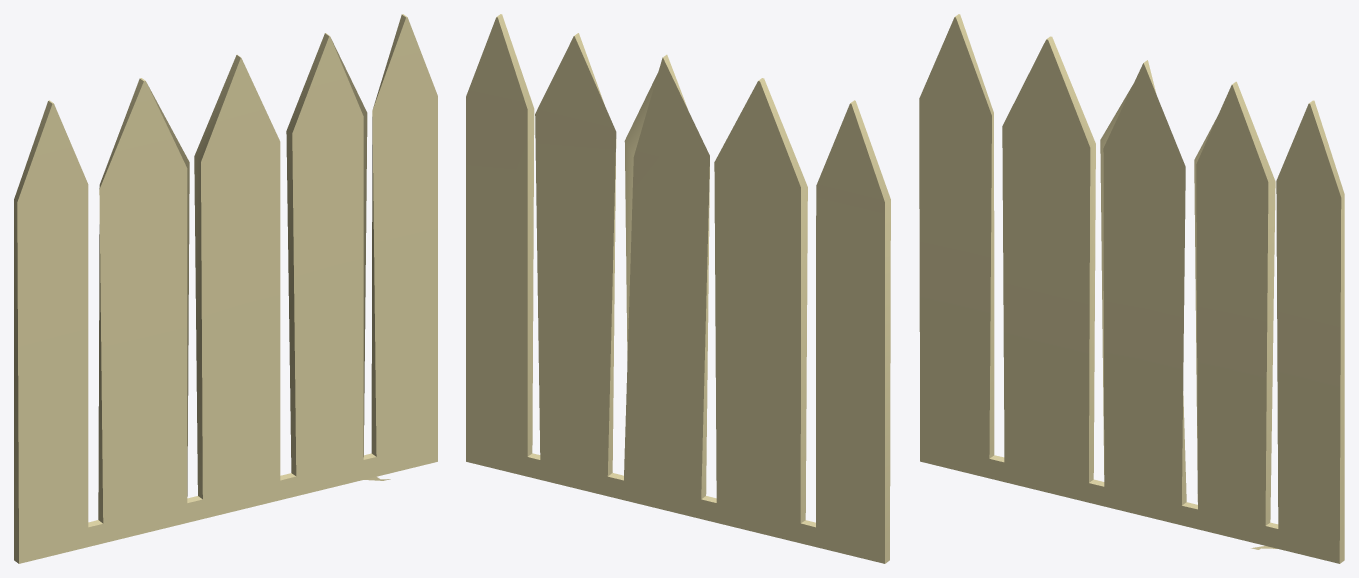
The model's file is Fence.fbx.
3 views of the same model, side by side, from view 1: azimuth 30°, elevation 25°; view 2: azimuth 150°, elevation 25°; view 3: azimuth 330°, elevation 25° (orthographic).
Visible parts, largest first — view 1: Cube; view 2: Cube; view 3: Cube.
Boxes of the visible parts, x1,y1,x2,y2 form: Cube: (14,14,437,563); Cube: (466,14,890,563); Cube: (919,14,1344,563).
Bounding box in the file's own units: 201 × 206 × 18.32.
